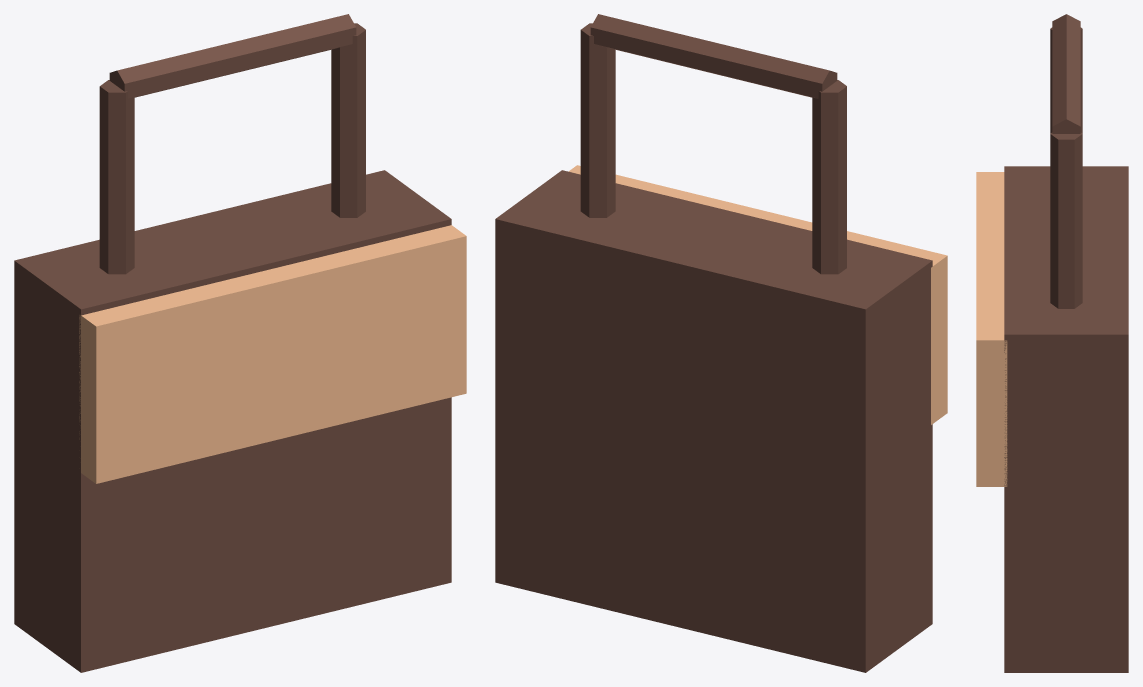
3 views of the same model, side by side, from view 1: azimuth 30°, elevation 25°; view 2: azimuth 150°, elevation 25°; view 3: azimuth 270°, elevation 25° (orthographic). The views are drawn at different scales.
Parts seen in each view (by area): view 1: Bag; view 2: Bag; view 3: Bag.
Boxes of the visible parts, bbox=[...] form: Bag: bbox=[14, 14, 466, 672]; Bag: bbox=[495, 14, 947, 672]; Bag: bbox=[976, 14, 1128, 672].
Size of the model in its own units: 0.32 by 0.463 by 0.1225.
Materials: 1 (1 with a texture image).
